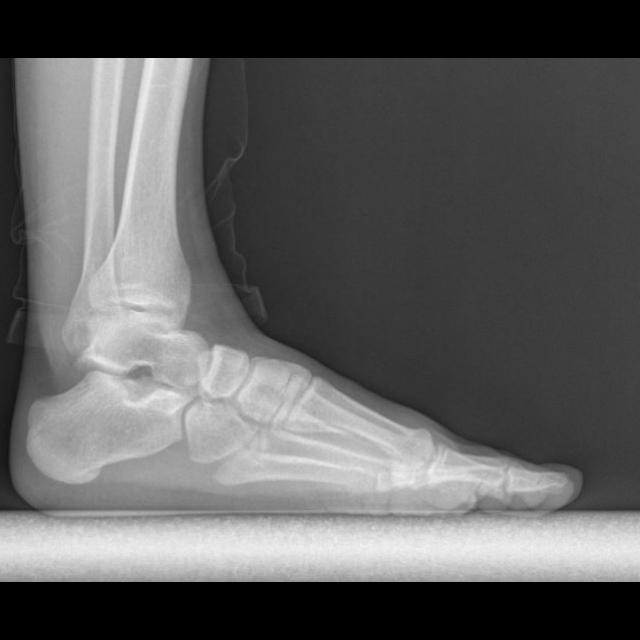a: (22, 369, 189, 485)
b: (199, 346, 249, 401)
c: (280, 373, 434, 469)
